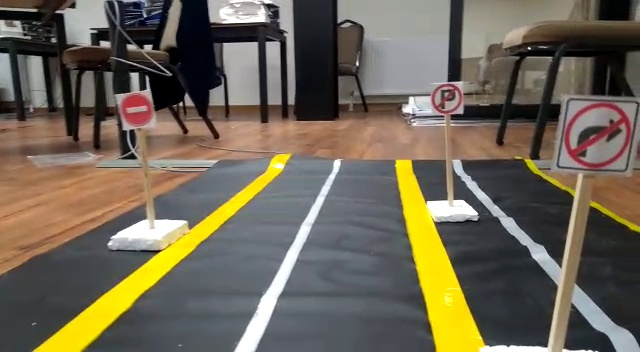girisi_olmayan_yol: (120, 92, 155, 127)
park_yapilmaz: (432, 83, 461, 114)
saga_donulmez: (559, 93, 631, 170)
